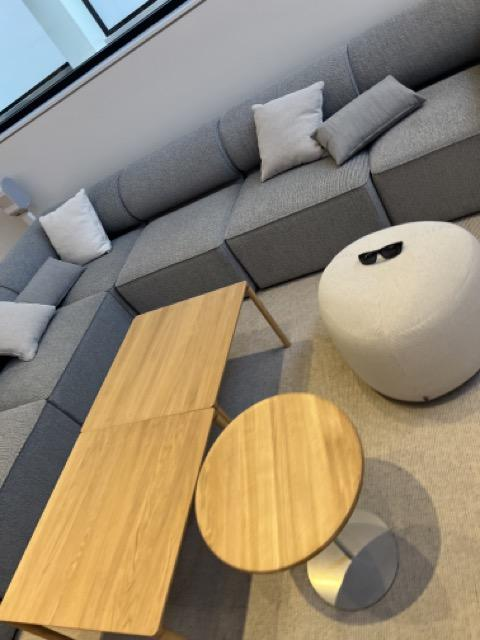Sunglasses: (357, 239, 404, 268)
